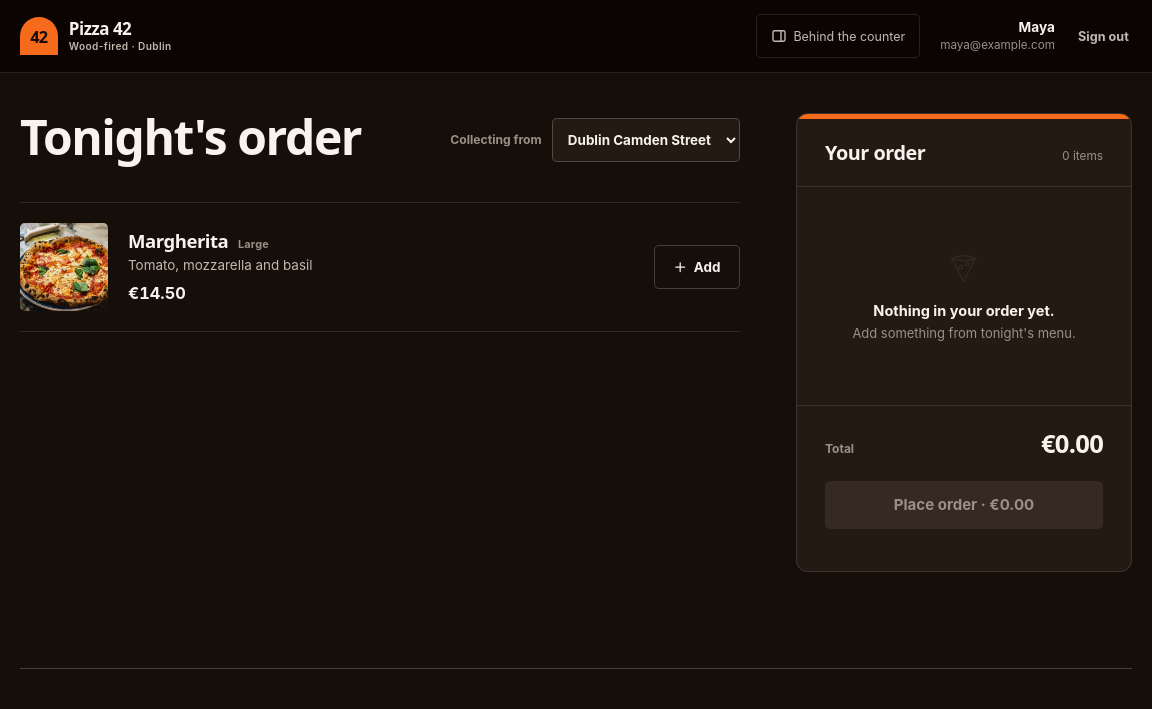
Test: Pizza 42 ordering experience › turns an API verification failure into an inline recovery path
Click the button with aria-label "Add Margherita" at (697, 267), box [654,245,740,289]
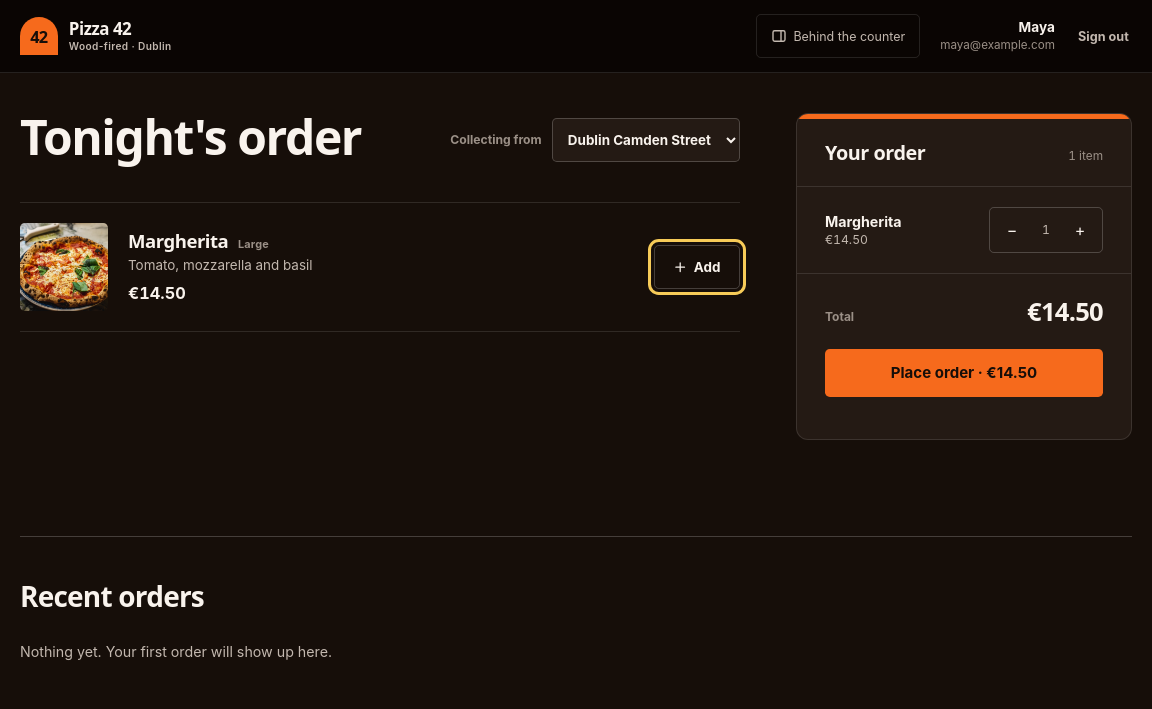
Click the button "Place order · €14.50" at (964, 373), box [825,349,1103,397]
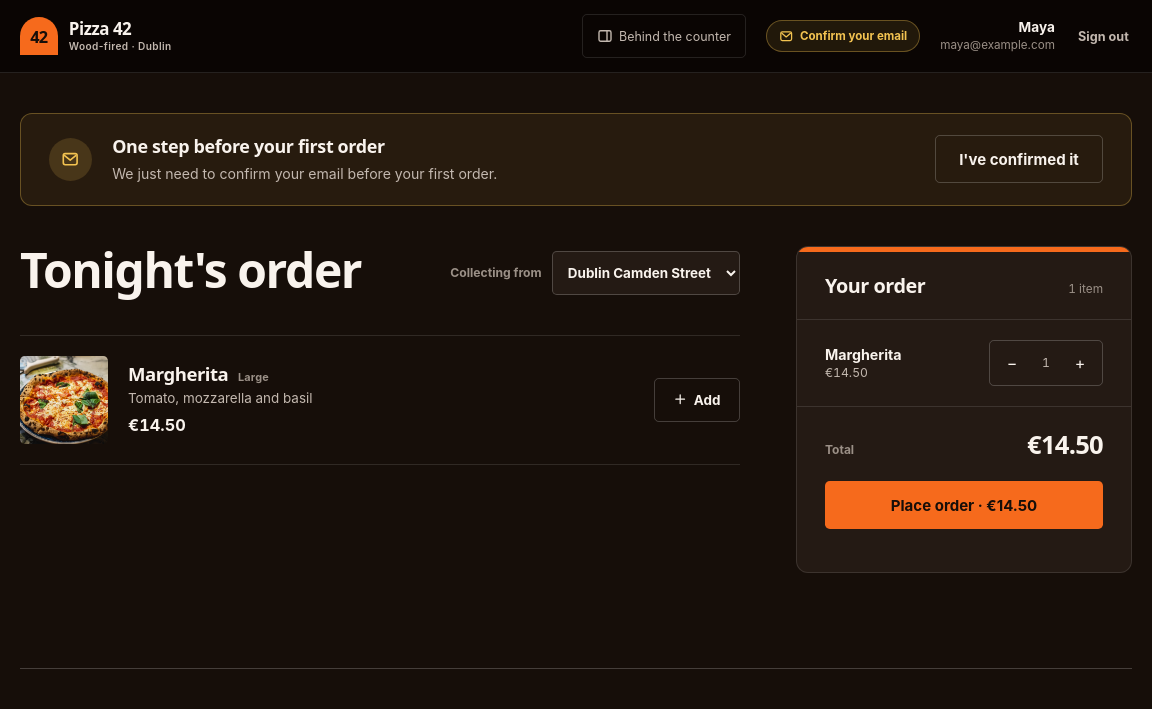
Now the heading "One step before your first order" is shown, box [112,134,385,158]
Now the text "We just need to confirm your email before your first order." is shown, box [112,165,497,182]
